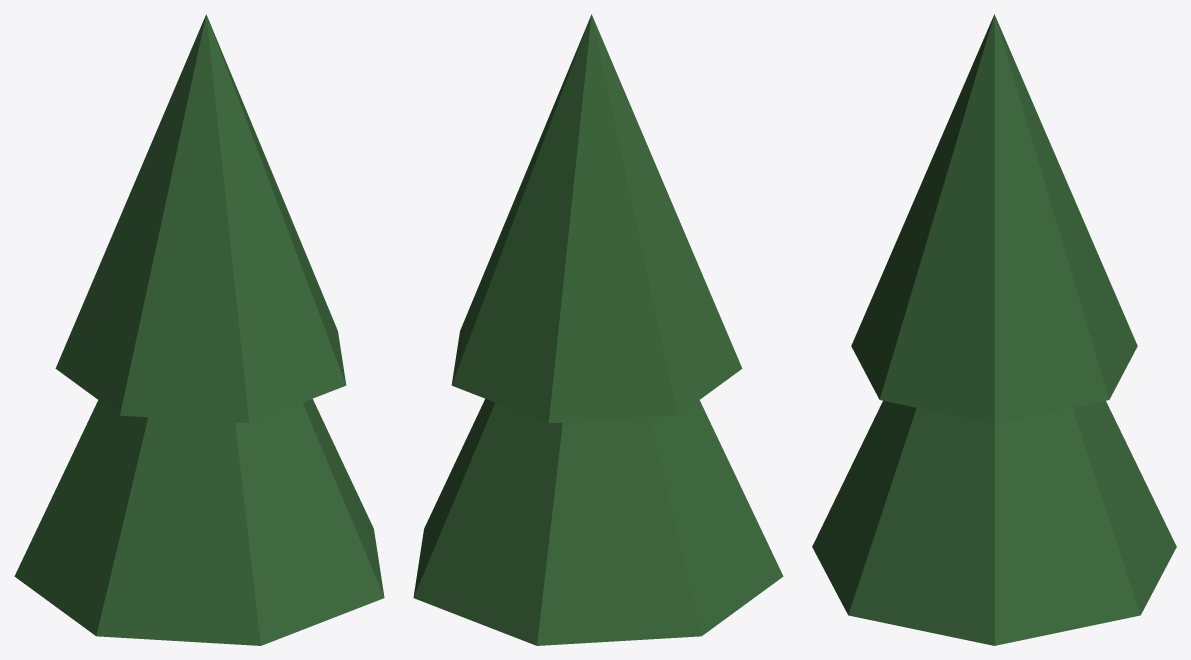
The model's file is pine_tree_a.glb.
3 views of the same model, side by side, from view 1: azimuth 30°, elevation 25°; view 2: azimuth 150°, elevation 25°; view 3: azimuth 270°, elevation 25° (orthographic).
Visible parts, largest first — view 1: pine_tree_a; view 2: pine_tree_a; view 3: pine_tree_a.
Boxes of the visible parts, <box> form: pine_tree_a: <box>14,14,384,645</box>; pine_tree_a: <box>413,14,783,645</box>; pine_tree_a: <box>812,14,1176,645</box>.
Size of the model in its own units: 4.2 by 7 by 4.2.
